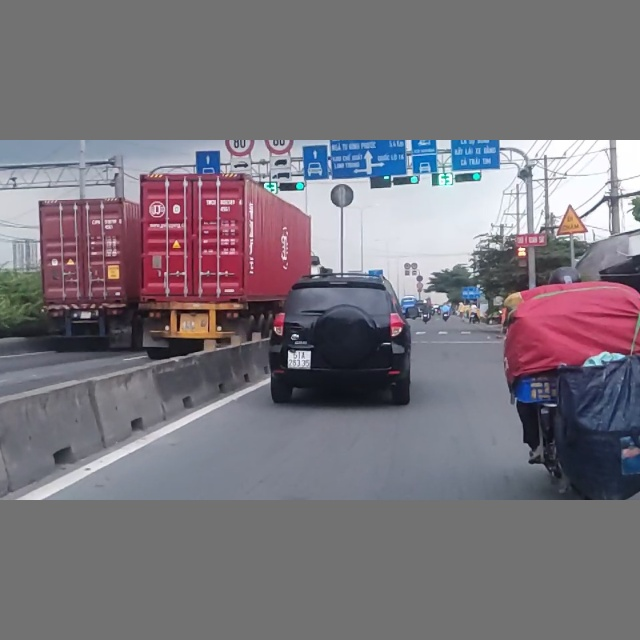W.245a: (555, 204, 588, 236)
